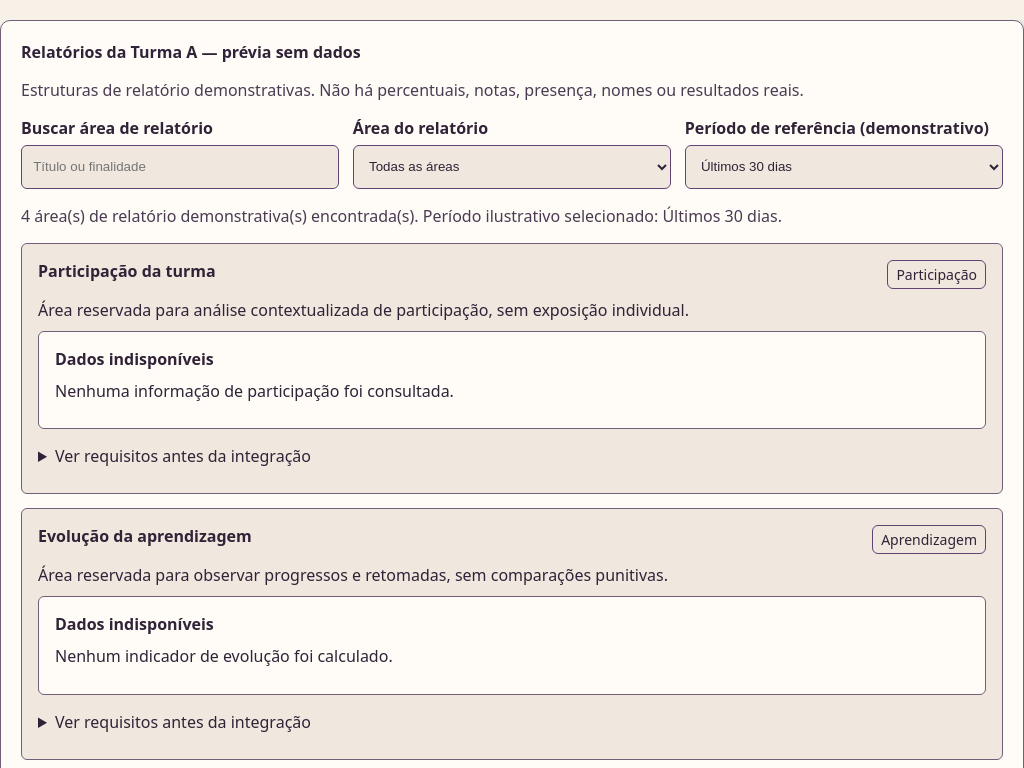
Test: Professor → Turma A → Relatórios (prévia) › combines category and keyword filters and provides an empty state
Select "Atividades" in the dropdown labelled "Área do relatório" at (512, 167), box [353,145,671,189]
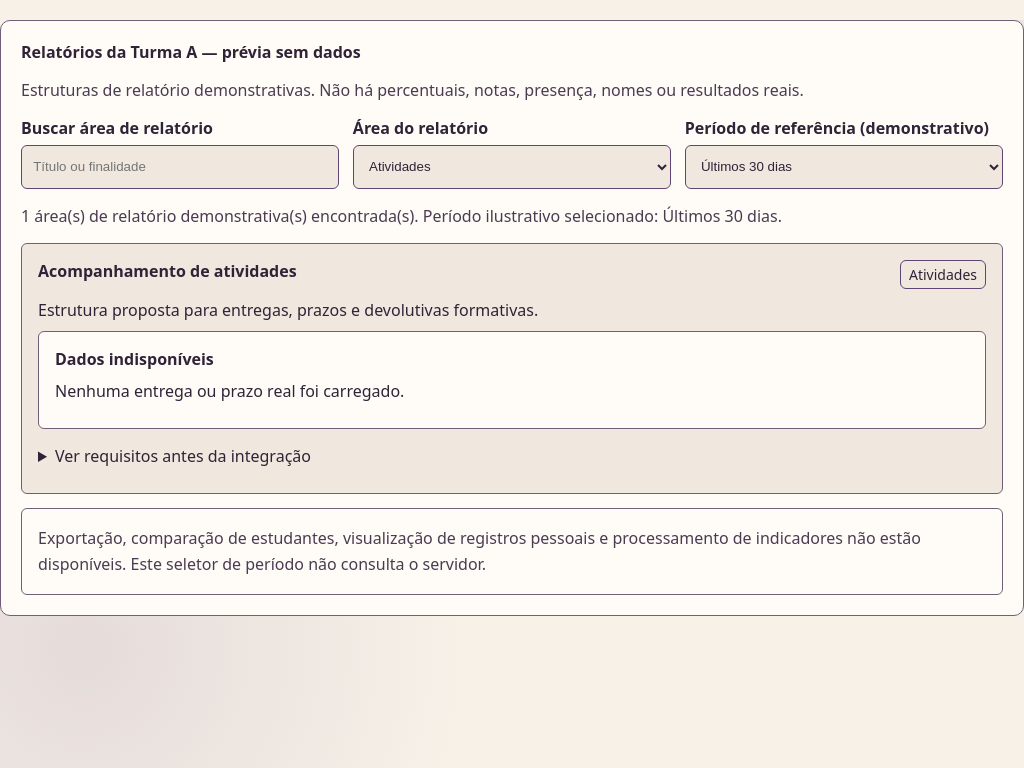
expect the text "1 área(s) de relatório demonstrativa(s) encontrada(s)" is shown: met, box [21,205,782,227]
expect the text "Evolução da aprendizagem" is gone: met
Type "assunto inexistente" into the search field labelled "Buscar área de relatório" at (180, 167), box [21,145,339,189]
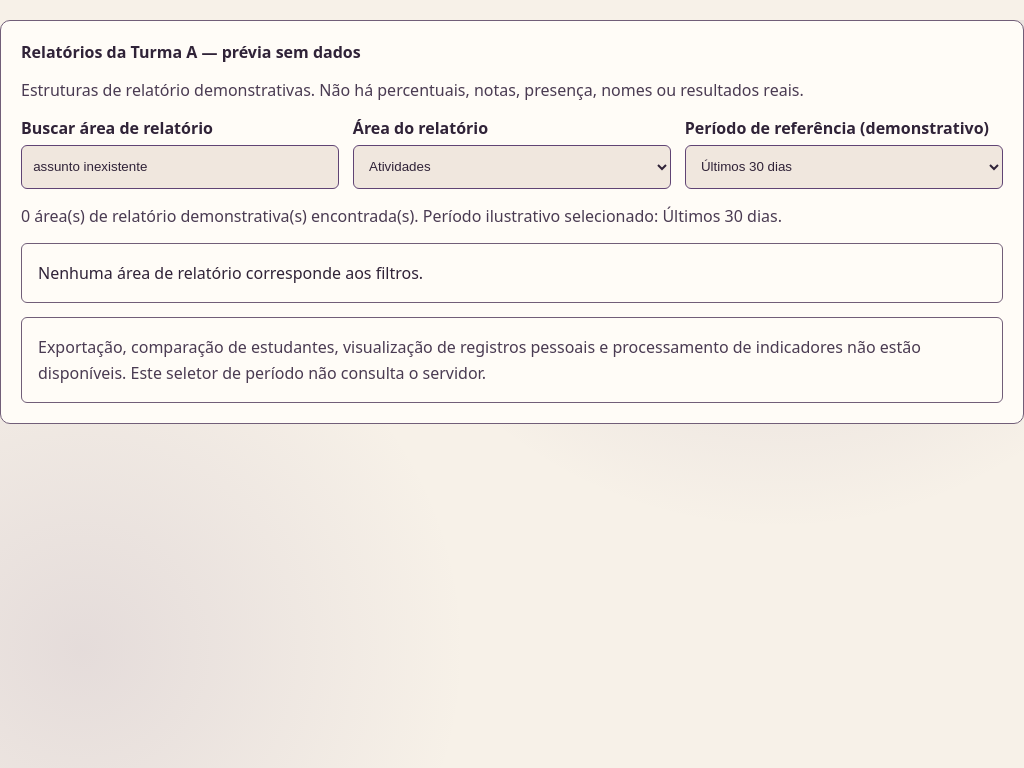
expect the text "Nenhuma área de relatório corresponde aos filtros." is shown: met, box [21,242,1003,303]
